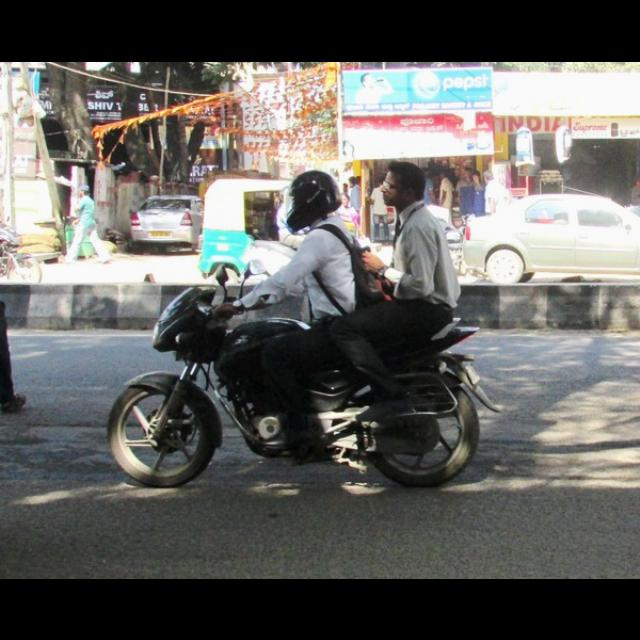With Helmet: (274, 168, 342, 234)
